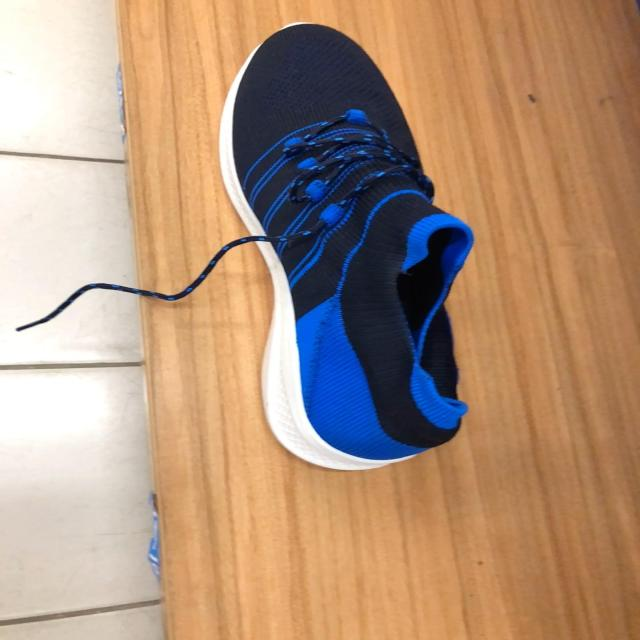shoe: (185, 22, 476, 472)
